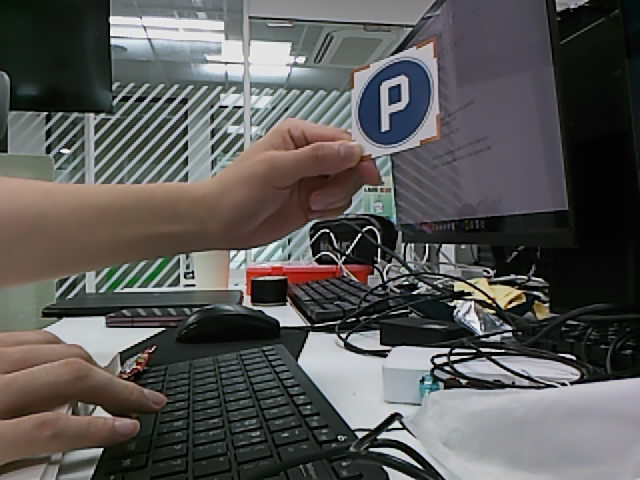park: (357, 59, 435, 147)
